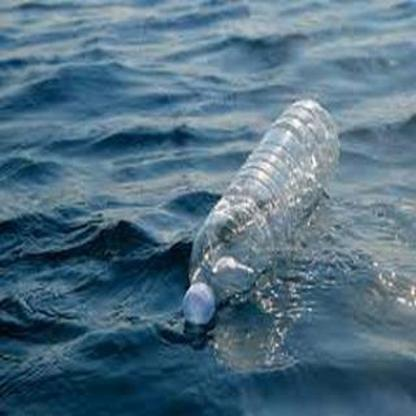plastic bottle: (183, 98, 341, 324)
